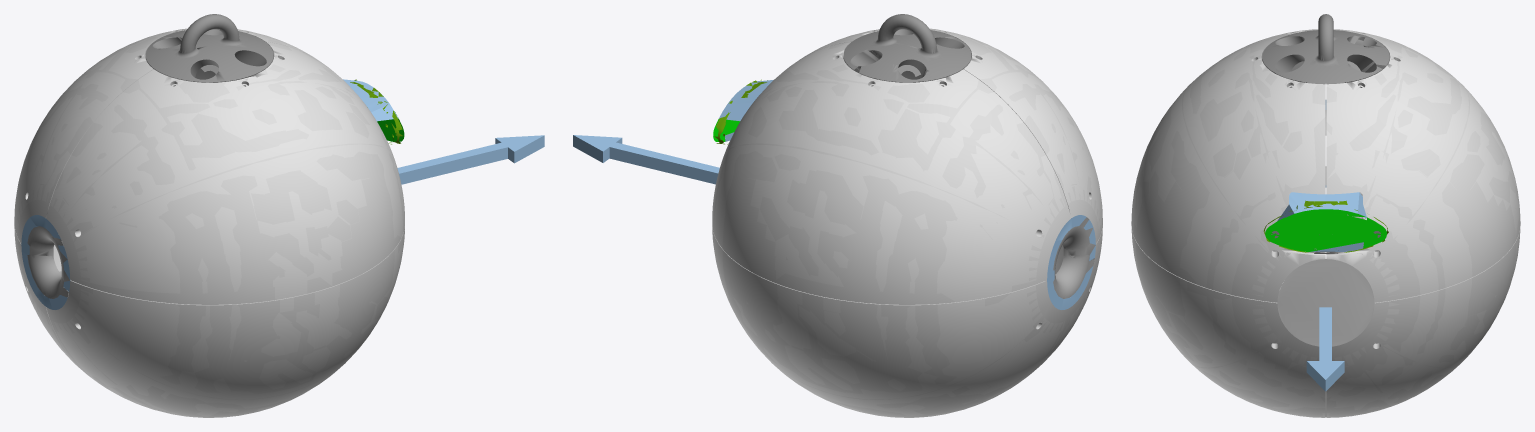
The model's file is sentinel_leve.glb.
3 renders of one model, left to right at view 1: azimuth 30°, elevation 25°; view 2: azimuth 150°, elevation 25°; view 3: azimuth 270°, elevation 25°, orthographic.
Parts seen in each view (by area): view 1: Robo_Exportado, Robo_Exportado.001; view 2: Robo_Exportado, Robo_Exportado.001; view 3: Robo_Exportado.001, Robo_Exportado.
Boxes of the visible parts, left/top/right/bottom form: Robo_Exportado: left=14, top=14, right=522, bottom=417; Robo_Exportado.001: left=14, top=14, right=544, bottom=417; Robo_Exportado: left=573, top=14, right=1102, bottom=417; Robo_Exportado.001: left=573, top=15, right=1102, bottom=417; Robo_Exportado.001: left=1131, top=15, right=1520, bottom=417; Robo_Exportado: left=1131, top=14, right=1520, bottom=417.
Bounding box in the file's own units: 451 × 332 × 306.
